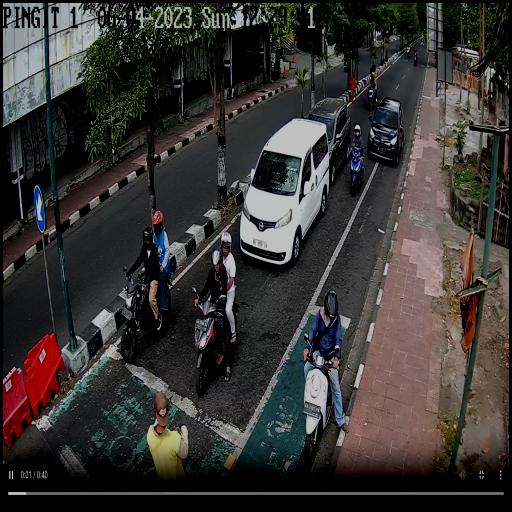mobil: (240, 112, 330, 262), (306, 94, 351, 186), (369, 97, 405, 164)
motor: (301, 335, 346, 462), (189, 286, 239, 399), (121, 258, 170, 365), (347, 143, 365, 197), (366, 84, 377, 111)
